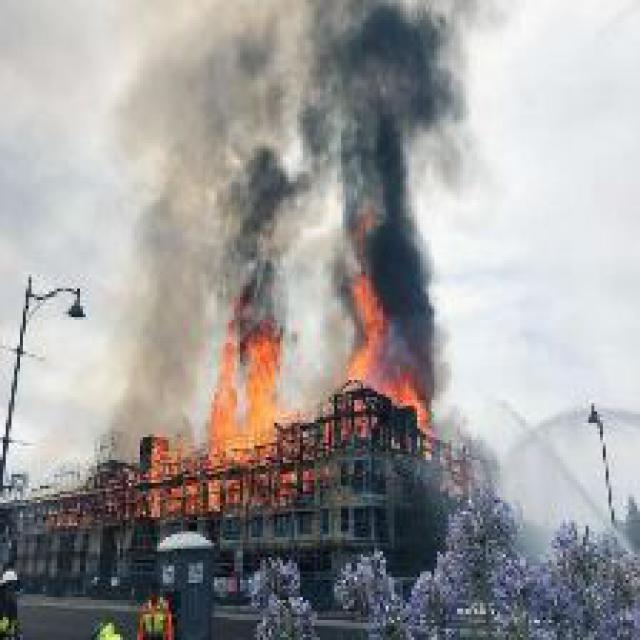fire: (334, 263, 443, 451), (197, 311, 294, 480)
